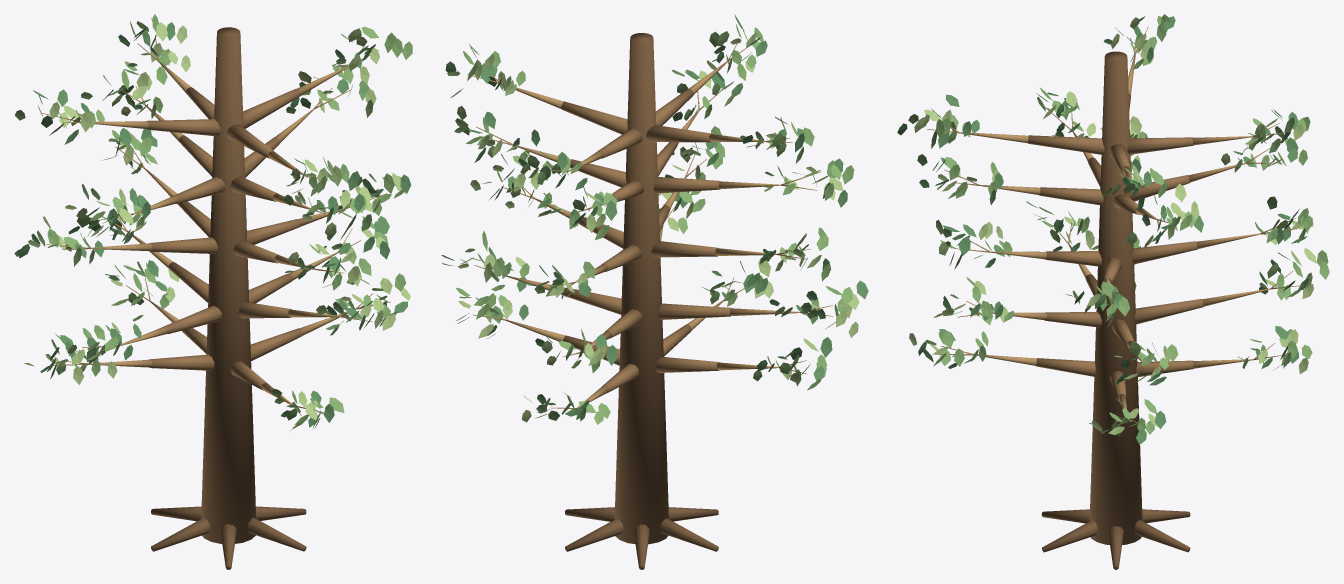
The model's file is leafy_tree.glb.
3 renders of one model, left to right at view 1: azimuth 30°, elevation 25°; view 2: azimuth 150°, elevation 25°; view 3: azimuth 270°, elevation 25°, orthographic. The views are drawn at different scales.
Visible parts, largest first — view 1: leafy_tree_trunk, leafy_tree_branch_4_2_a, leafy_tree_branch_2_2_a, leafy_tree_branch_0_2_a, leafy_tree_branch_4_0_a, leafy_tree_branch_1_2_a, root_5, root_3, leafy_tree_branch_0_0_a, leafy_tree_branch_2_0_a, leafy_tree_branch_1_3_a, leafy_tree_branch_3_2_a (+9 smaller); view 2: leafy_tree_trunk, leafy_tree_branch_1_2_a, leafy_tree_branch_4_0_a, leafy_tree_branch_3_2_a, leafy_tree_branch_4_2_a, leafy_tree_branch_2_2_a, leafy_tree_branch_0_2_a, root_1, root_3, leafy_tree_branch_3_0_a, leafy_tree_branch_1_0_a, leafy_tree_branch_4_1_a (+3 smaller); view 3: leafy_tree_trunk, leafy_tree_branch_4_3_a, leafy_tree_branch_1_1_a, leafy_tree_branch_4_1_a, leafy_tree_branch_2_1_a, leafy_tree_branch_3_3_a, leafy_tree_branch_0_3_a, leafy_tree_branch_2_3_a, leafy_tree_branch_1_3_a, root_1, root_5, leafy_tree_branch_0_1_a (+1 smaller).
Part boxes in pixels (left/top/right/bottom): leafy_tree_trunk: left=201, top=27, right=256, bottom=543; leafy_tree_branch_4_2_a: left=146, top=119, right=220, bottom=136; leafy_tree_branch_2_2_a: left=150, top=237, right=217, bottom=253; leafy_tree_branch_0_2_a: left=149, top=354, right=214, bottom=370; leafy_tree_branch_4_0_a: left=243, top=89, right=300, bottom=128; leafy_tree_branch_1_2_a: left=164, top=305, right=221, bottom=333; root_5: left=247, top=517, right=306, bottom=551; root_3: left=151, top=518, right=209, bottom=551; leafy_tree_branch_0_0_a: left=250, top=328, right=302, bottom=361; leafy_tree_branch_2_0_a: left=247, top=219, right=299, bottom=244; leafy_tree_branch_1_3_a: left=238, top=302, right=291, bottom=318; leafy_tree_branch_3_2_a: left=173, top=177, right=225, bottom=203; leafy_tree_trunk: left=614, top=33, right=668, bottom=544; leafy_tree_branch_1_2_a: left=658, top=303, right=730, bottom=319; leafy_tree_branch_4_0_a: left=561, top=101, right=627, bottom=134; leafy_tree_branch_3_2_a: left=653, top=177, right=719, bottom=193; leafy_tree_branch_4_2_a: left=646, top=125, right=711, bottom=142; leafy_tree_branch_2_2_a: left=651, top=241, right=717, bottom=257; leafy_tree_branch_0_2_a: left=655, top=356, right=719, bottom=372; root_1: left=565, top=518, right=623, bottom=551; root_3: left=660, top=518, right=718, bottom=551; leafy_tree_branch_3_0_a: left=570, top=159, right=626, bottom=187; leafy_tree_branch_1_0_a: left=564, top=287, right=621, bottom=314; leafy_tree_branch_4_1_a: left=598, top=128, right=642, bottom=158; leafy_tree_trunk: left=1089, top=51, right=1142, bottom=544; leafy_tree_branch_4_3_a: left=1028, top=135, right=1104, bottom=154; leafy_tree_branch_1_1_a: left=1135, top=299, right=1203, bottom=324; leafy_tree_branch_4_1_a: left=1127, top=137, right=1193, bottom=154; leafy_tree_branch_2_1_a: left=1132, top=241, right=1197, bottom=264; leafy_tree_branch_3_3_a: left=1039, top=187, right=1103, bottom=205; leafy_tree_branch_0_3_a: left=1036, top=358, right=1095, bottom=376; leafy_tree_branch_2_3_a: left=1045, top=251, right=1101, bottom=266; leafy_tree_branch_1_3_a: left=1045, top=312, right=1101, bottom=327; root_1: left=1134, top=520, right=1190, bottom=552; root_5: left=1042, top=520, right=1097, bottom=552; leafy_tree_branch_0_1_a: left=1136, top=360, right=1193, bottom=376.
Size of the model in its own units: 3.79 by 4.7 by 3.86.
